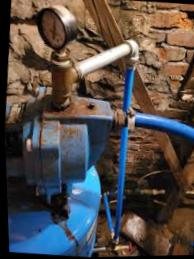leak: (7, 179, 90, 255)
